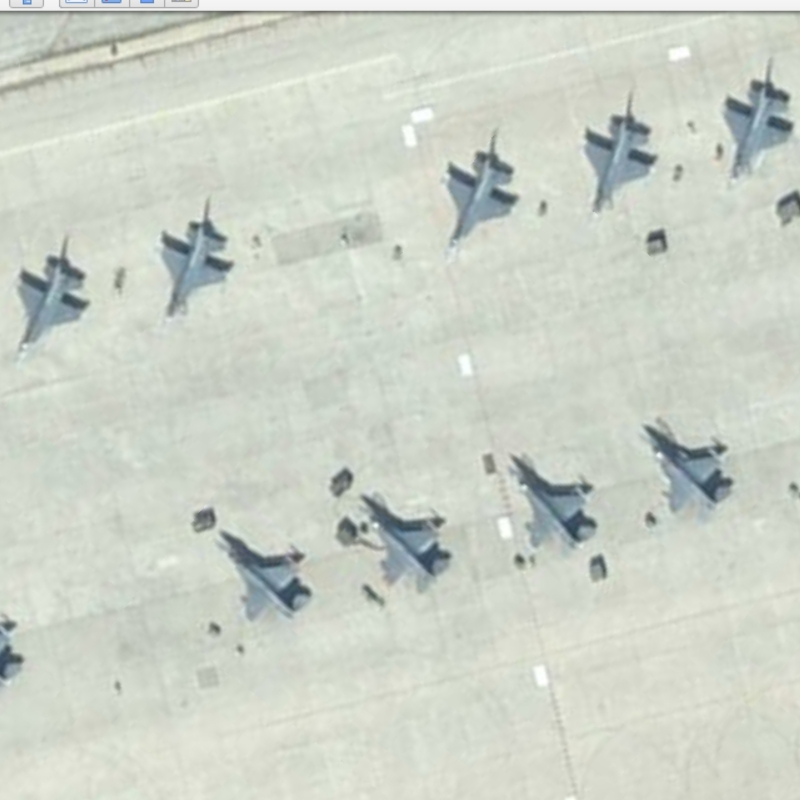A5: (352, 482, 460, 600), (706, 68, 800, 194), (150, 216, 251, 332), (207, 522, 318, 622), (501, 450, 603, 555), (576, 111, 665, 231), (430, 147, 522, 263), (11, 246, 95, 367), (637, 418, 738, 516)
